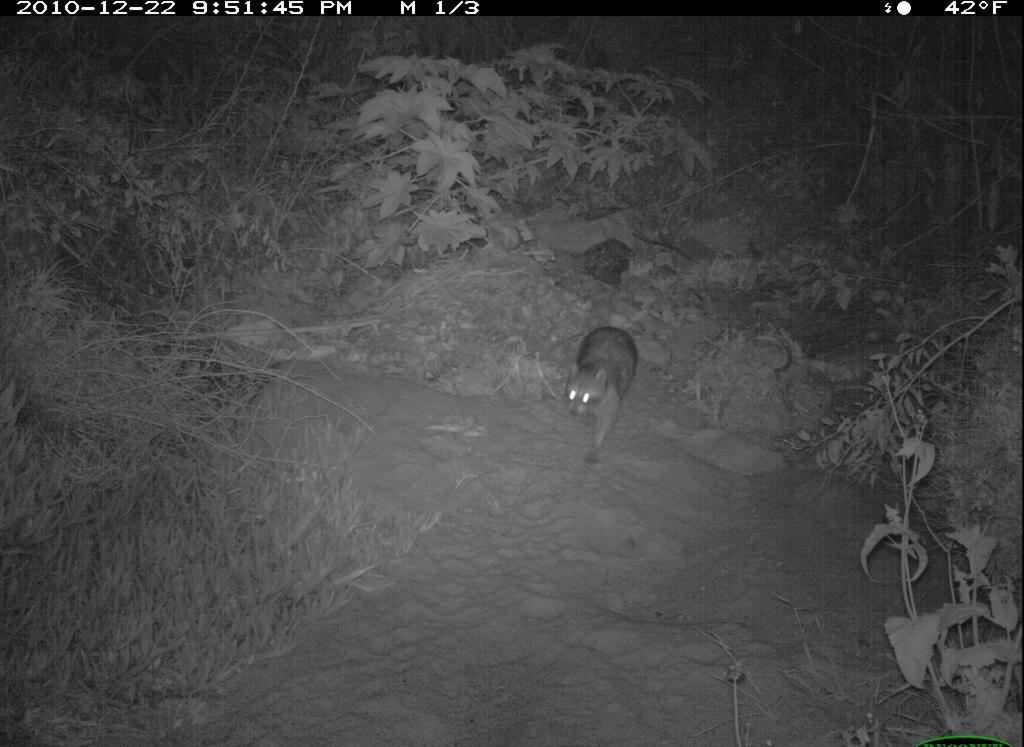raccoon: (547, 318, 660, 475)
